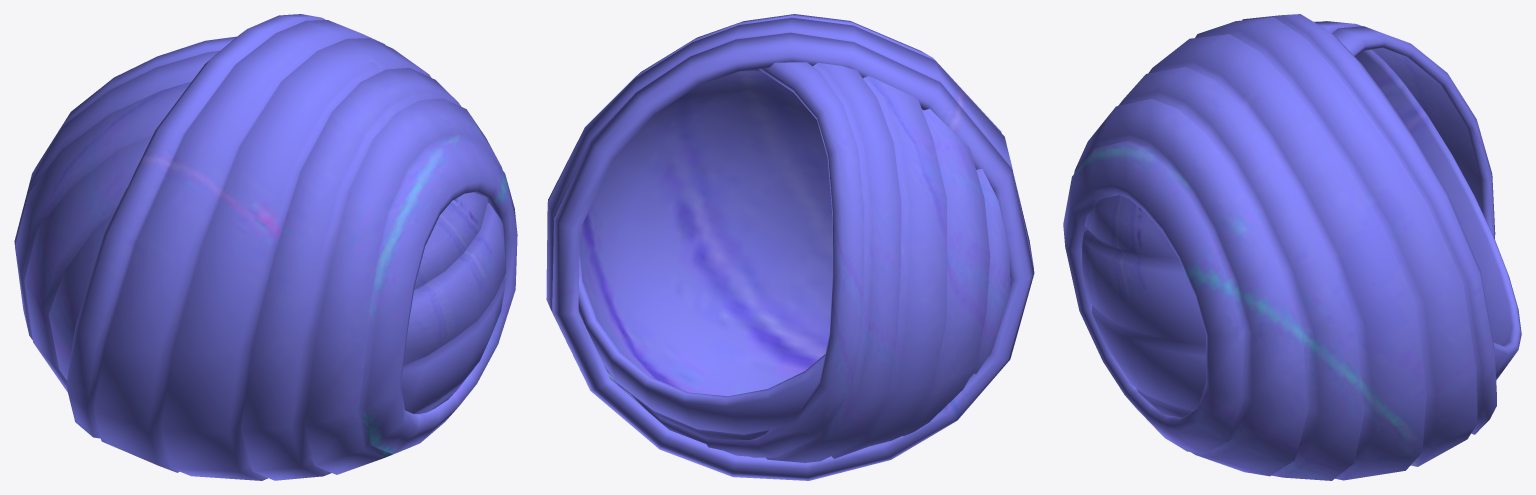
Rendered from Headwear13.glb.
The picture shows the model from 3 angles, left to right: view 1: azimuth 30°, elevation 25°; view 2: azimuth 150°, elevation 25°; view 3: azimuth 270°, elevation 25°; orthographic projection. The views are drawn at different scales.
Parts seen in each view (by area): view 1: Headwear13; view 2: Headwear13; view 3: Headwear13.
Part boxes in pixels (x1,y1,x2,y2): Headwear13: (14,14,517,480); Headwear13: (546,14,1034,480); Headwear13: (1063,14,1521,480).
Bounding box in the file's own units: 2.44 × 2.27 × 2.24.
Materials: 1 (1 with a texture image).
